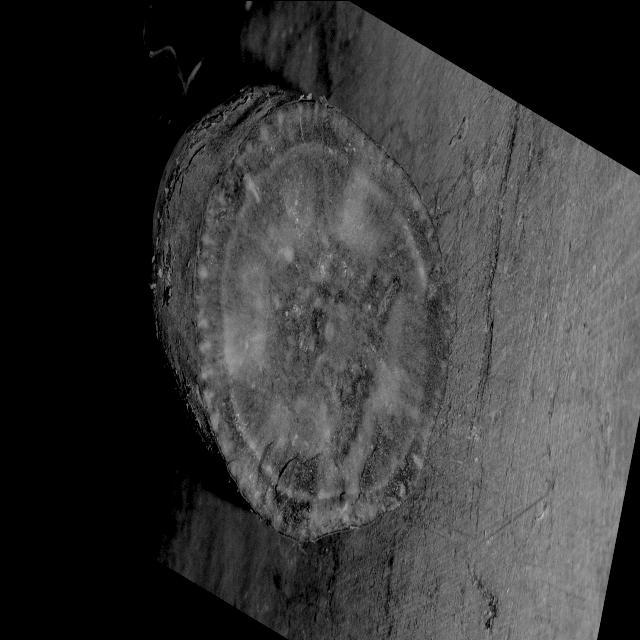Sick Sweet Potato_Tuber Rot: (195, 100, 450, 538)
